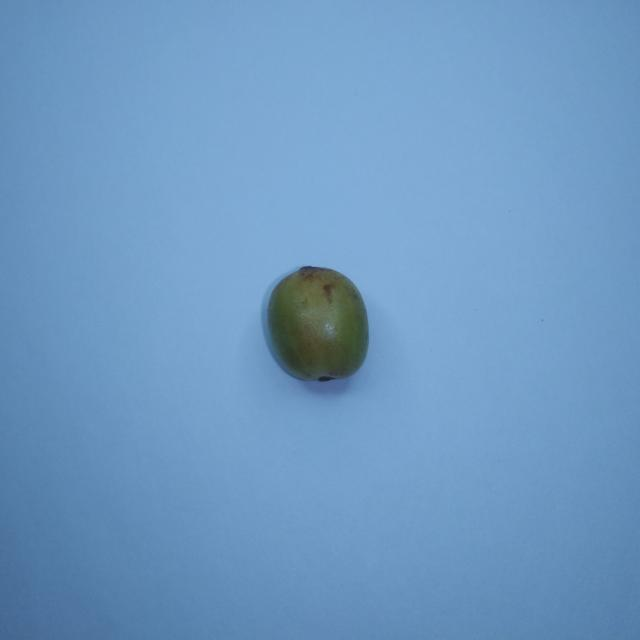Sano: (267, 268, 367, 380)
